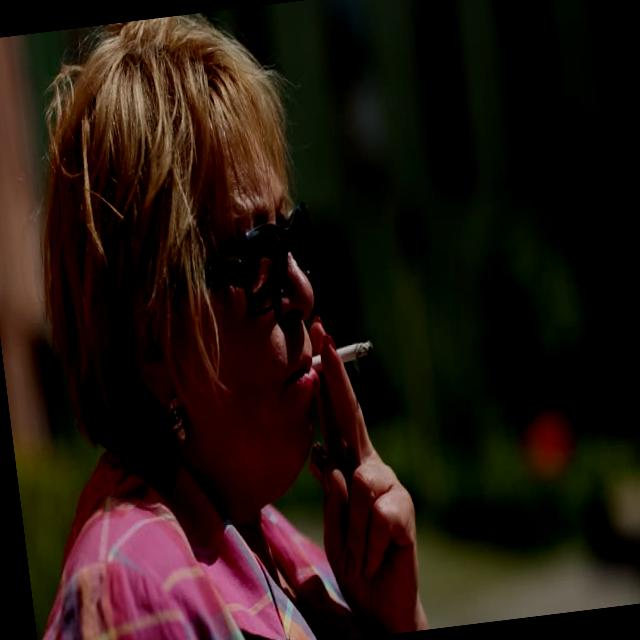smoke: (296, 313, 386, 396)
